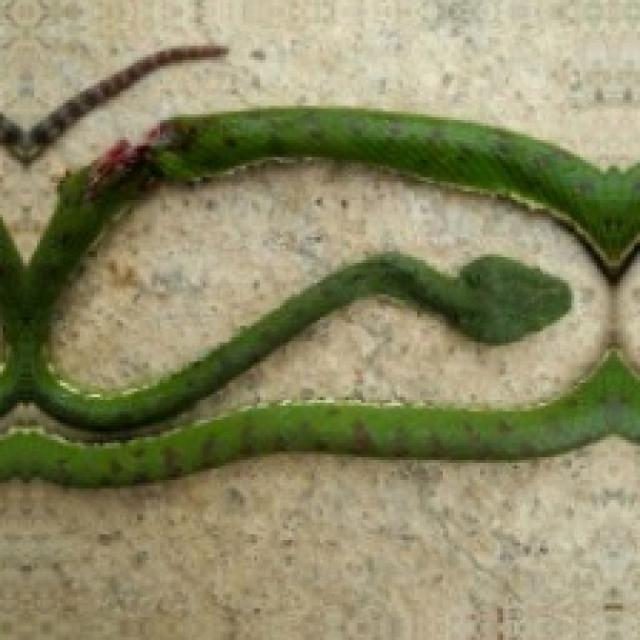philippine pitviper: (0, 106, 637, 429), (0, 343, 637, 483)
